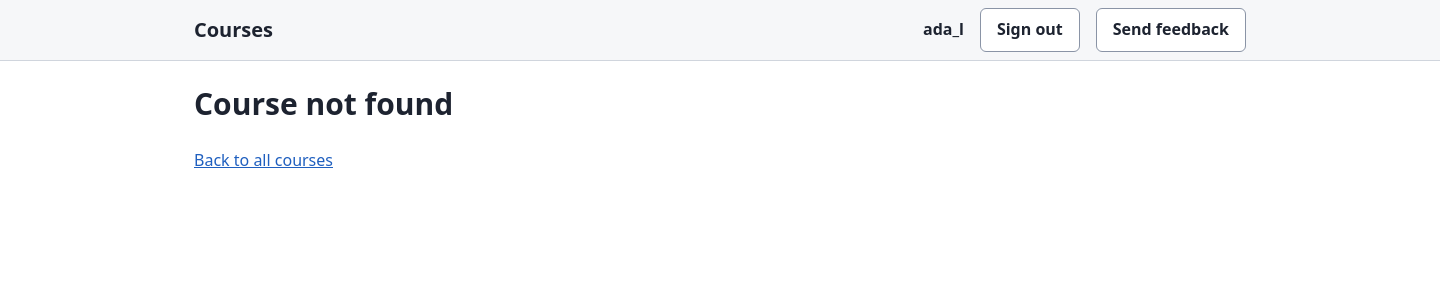
Scenario: keeps the learner signed in and shows a banner when sign-out fails with a 500
Click the button "Sign out".
click(1030, 30)  # box x1=980 y1=8 x2=1080 y2=52
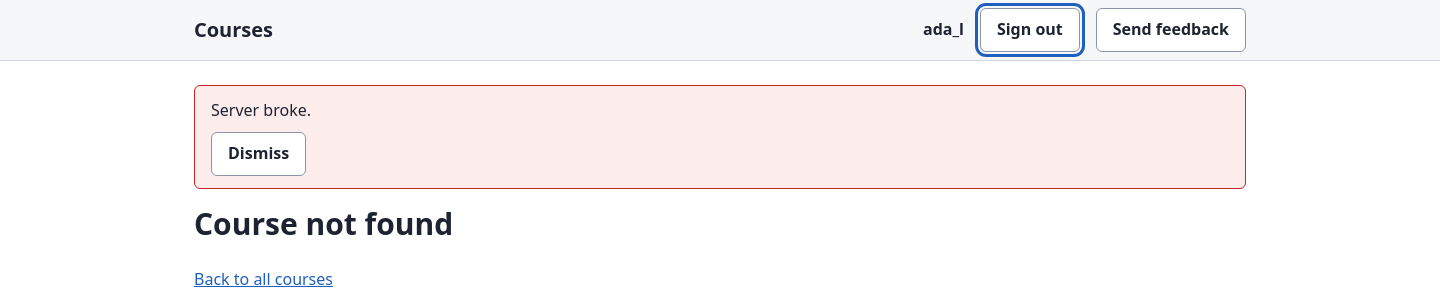
Expected: the text "ada_l" is shown, x1=923 y1=17 x2=964 y2=43
Result: the text "Server broke." is shown at x1=211 y1=99 x2=311 y2=121
